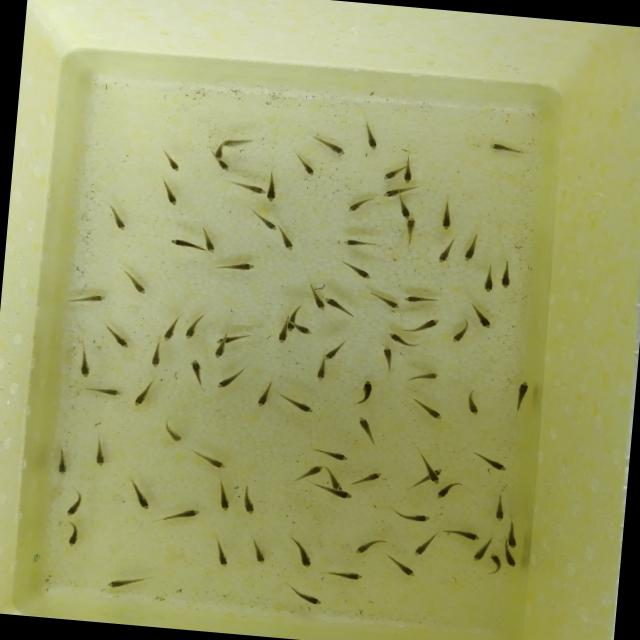fingerling: (158, 502, 200, 528), (124, 474, 152, 512), (118, 266, 150, 296), (212, 363, 245, 392), (471, 451, 512, 474), (73, 339, 96, 380), (287, 584, 326, 608), (104, 570, 146, 592), (103, 320, 133, 350), (276, 392, 316, 414), (133, 374, 158, 409), (322, 333, 352, 362), (61, 486, 86, 520), (180, 310, 203, 346), (358, 116, 382, 150), (322, 294, 356, 318), (410, 397, 444, 421), (71, 286, 108, 308), (290, 537, 316, 568), (434, 481, 472, 502), (213, 258, 256, 276), (439, 524, 482, 542), (402, 314, 440, 334), (310, 446, 352, 464), (192, 448, 226, 470), (368, 288, 399, 312), (293, 150, 319, 178), (89, 435, 111, 468), (352, 536, 388, 556), (295, 460, 325, 484), (239, 481, 259, 517), (208, 538, 232, 568), (340, 232, 380, 250), (315, 137, 349, 158), (213, 480, 234, 514), (354, 414, 376, 446), (52, 444, 74, 476), (384, 556, 416, 578), (61, 518, 84, 548), (384, 331, 422, 349), (252, 378, 274, 409), (158, 312, 180, 343), (158, 149, 184, 175), (412, 532, 438, 558), (485, 140, 527, 156), (476, 264, 497, 296), (341, 262, 374, 282), (248, 536, 270, 566), (184, 358, 206, 388), (354, 378, 375, 409), (103, 206, 128, 232), (471, 304, 496, 330), (447, 318, 472, 344), (314, 484, 354, 500), (326, 566, 366, 582), (461, 232, 481, 264), (433, 237, 455, 266), (353, 468, 383, 489), (512, 380, 530, 415), (250, 210, 278, 232), (304, 283, 326, 311), (161, 176, 181, 206), (343, 196, 373, 216), (82, 383, 122, 398), (496, 261, 516, 290), (463, 389, 483, 418), (492, 490, 509, 524), (263, 172, 281, 204), (146, 338, 164, 370), (436, 203, 456, 231), (275, 226, 296, 252), (232, 180, 266, 196), (402, 216, 420, 246), (378, 346, 397, 374), (166, 235, 197, 252), (402, 292, 439, 306), (322, 469, 346, 490), (390, 512, 428, 525), (406, 369, 441, 383), (162, 423, 185, 443), (218, 137, 256, 149), (484, 550, 504, 572), (505, 519, 520, 548), (394, 196, 412, 220), (470, 540, 488, 564), (215, 334, 248, 347), (501, 548, 522, 568), (312, 360, 331, 382), (202, 227, 218, 253), (400, 164, 418, 184), (380, 164, 398, 183), (380, 187, 402, 200), (274, 329, 290, 346), (215, 160, 233, 174), (212, 346, 228, 360), (296, 324, 314, 336), (426, 472, 440, 484), (286, 318, 296, 332), (213, 148, 224, 160)
